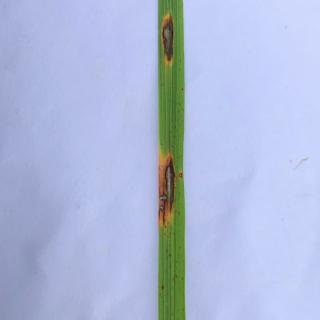Blast: (163, 157, 176, 213), (162, 15, 176, 61), (158, 192, 170, 221)
